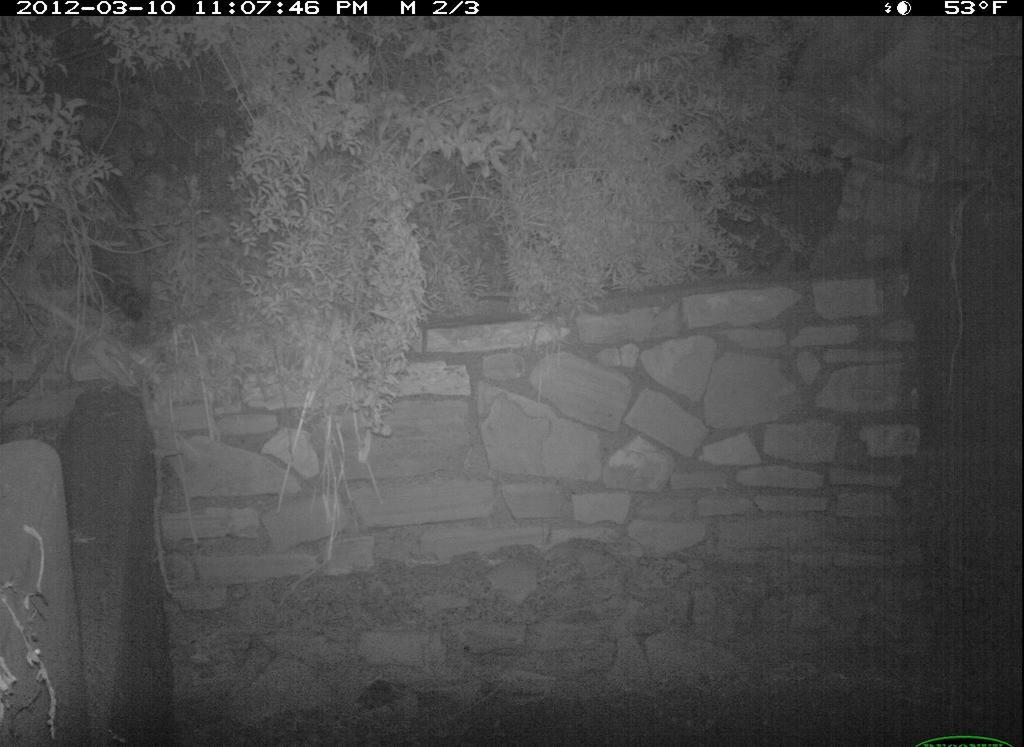raccoon: (73, 140, 161, 329)
